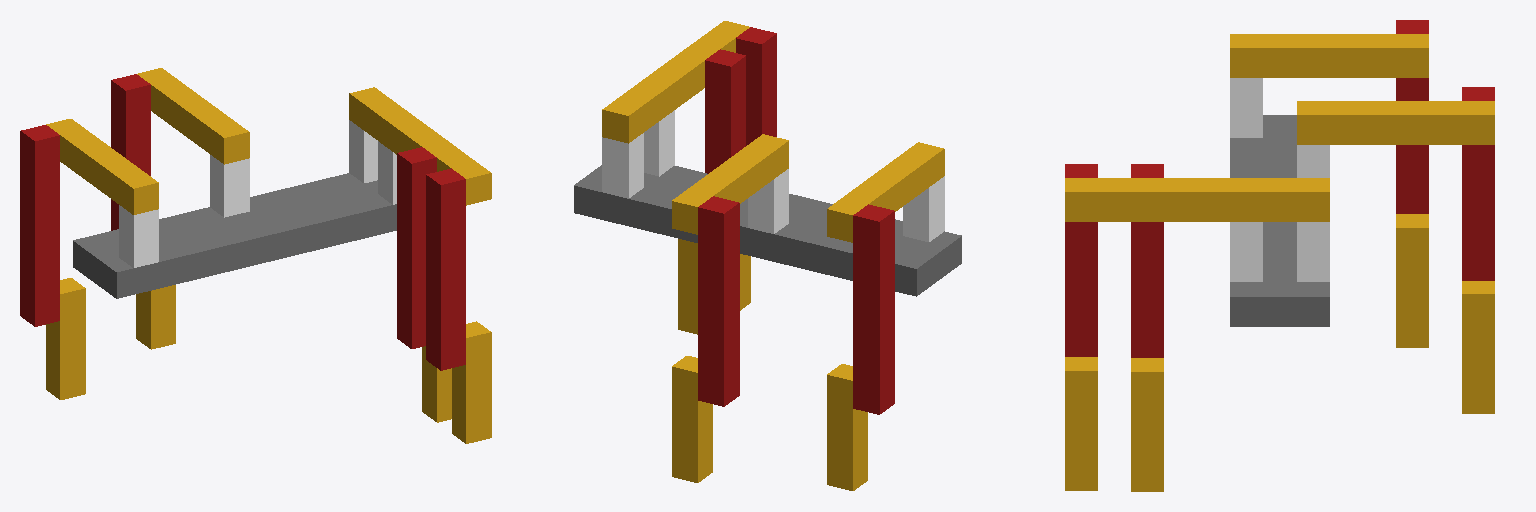
The robot description file, URDF, robot "v0":
<?xml version="1.0" encoding="utf-8"?>
<!-- =================================================================================== -->
<!-- |    This document was autogenerated by xacro from ../robots/v0variants/xacros/v0_4l_19.xacro | -->
<!-- |    EDITING THIS FILE BY HAND IS NOT RECOMMENDED                                 | -->
<!-- =================================================================================== -->
<robot name="v0">
  <material name="grey">
    <color rgba="0.5 0.5 0.5 1"/>
  </material>
  <material name="white">
    <color rgba="1 1 1 1"/>
  </material>
  <material name="yellow">
    <color rgba="0.91 0.7 0.14 1"/>
  </material>
  <material name="red">
    <color rgba="0.71 0.14 0.14 1"/>
  </material>
  <link name="body">
    <visual>
      <geometry>
        <box size="1.3 0.3 0.1"/>
      </geometry>
      <material name="grey"/>
      <origin rpy="0 0 0" xyz="0 0 0.7"/>
    </visual>
    <collision>
      <geometry>
        <box size="1.3 0.3 0.1"/>
      </geometry>
      <origin rpy="0 0 0" xyz="0 0 0.7"/>
    </collision>
    <inertial>
      <mass value="99.84"/>
      <inertia ixx="0.832" ixy="0.0" ixz="0.0" iyy="14.144" iyz="0.0" izz="14.8096"/>
    </inertial>
  </link>
  <link name="l1_segment_1">
    <visual>
      <geometry>
        <box size="0.1 0.1 0.2"/>
      </geometry>
      <material name="white"/>
      <origin rpy="0 0 0" xyz="0 0 0.1"/>
    </visual>
    <collision>
      <geometry>
        <box size="0.1 0.1 0.2"/>
      </geometry>
      <origin rpy="0 0 0" xyz="0 0 0.1"/>
    </collision>
    <inertial>
      <mass value="5.12"/>
      <inertia ixx="0.0213333333333" ixy="0.0" ixz="0.0" iyy="0.0213333333333" iyz="0.0" izz="0.00853333333333"/>
    </inertial>
  </link>
  <joint name="l1_base_to_joint_1" type="fixed">
    <parent link="body"/>
    <child link="l1_segment_1"/>
    <origin rpy="0 0 0" xyz="-0.059846636001901654 0.1 0.75"/>
  </joint>
  <link name="l1_segment_2_HIP">
    <visual>
      <geometry>
        <box size="0.1 0.6 0.1"/>
      </geometry>
      <material name="yellow"/>
      <origin rpy="0 0 0" xyz="0 0.25 0"/>
    </visual>
    <collision>
      <geometry>
        <box size="0.1 0.6 0.1"/>
      </geometry>
      <origin rpy="0 0 0" xyz="0 0.25 0"/>
    </collision>
    <inertial>
      <mass value="15.36"/>
      <inertia ixx="0.4736" ixy="0.0" ixz="0.0" iyy="0.0256" iyz="0.0" izz="0.4736"/>
    </inertial>
  </link>
  <joint name="l1_joint_1_to_2" type="revolute">
    <parent link="l1_segment_1"/>
    <child link="l1_segment_2_HIP"/>
    <origin rpy="0 0 0" xyz="0 0 0.25"/>
    <axis xyz="0.0 0.0 1.0"/>
    <limit effort="2048" lower="-1.2" upper="1.2" velocity="20"/>
  </joint>
  <link name="l1_segment_3_THIGH">
    <visual>
      <geometry>
        <box size="0.1 0.1 0.7"/>
      </geometry>
      <material name="red"/>
      <origin rpy="0 0 0" xyz="0 0 -0.3"/>
    </visual>
    <collision>
      <geometry>
        <box size="0.1 0.1 0.7"/>
      </geometry>
      <origin rpy="0 0 0" xyz="0 0 -0.3"/>
    </collision>
    <inertial>
      <mass value="17.92"/>
      <inertia ixx="0.746666666667" ixy="0.0" ixz="0.0" iyy="0.746666666667" iyz="0.0" izz="0.0298666666667"/>
    </inertial>
  </link>
  <joint name="l1_joint_2_to_3" type="revolute">
    <parent link="l1_segment_2_HIP"/>
    <child link="l1_segment_3_THIGH"/>
    <origin rpy="0 0 0" xyz="-0.1 0.5 0"/>
    <axis xyz="1.0 0.0 0.0"/>
    <limit effort="2048" lower="-0.2" upper="0.75" velocity="20"/>
  </joint>
  <link name="l1_segment_4_FOOT">
    <visual>
      <geometry>
        <box size="0.1 0.1 0.4"/>
      </geometry>
      <material name="yellow"/>
      <origin rpy="0 0 0" xyz="0 0 -0.2"/>
    </visual>
    <collision>
      <geometry>
        <box size="0.1 0.1 0.4"/>
      </geometry>
      <origin rpy="0 0 0" xyz="0 0 -0.2"/>
    </collision>
    <inertial>
      <mass value="10.24"/>
      <inertia ixx="0.145066666667" ixy="0.0" ixz="0.0" iyy="0.145066666667" iyz="0.0" izz="0.0170666666667"/>
    </inertial>
  </link>
  <joint name="l1_joint_3_to_4_FOOT" type="revolute">
    <parent link="l1_segment_3_THIGH"/>
    <child link="l1_segment_4_FOOT"/>
    <origin rpy="0 0 0" xyz="0.1 0 -0.55"/>
    <axis xyz="1.0 0.0 0.0"/>
    <limit effort="2048" lower="-0.2" upper="0.5" velocity="20"/>
  </joint>
  <link name="r2_segment_1">
    <visual>
      <geometry>
        <box size="0.1 0.1 0.2"/>
      </geometry>
      <material name="white"/>
      <origin rpy="0 0 0" xyz="0 0 0.1"/>
    </visual>
    <collision>
      <geometry>
        <box size="0.1 0.1 0.2"/>
      </geometry>
      <origin rpy="0 0 0" xyz="0 0 0.1"/>
    </collision>
    <inertial>
      <mass value="5.12"/>
      <inertia ixx="0.0213333333333" ixy="0.0" ixz="0.0" iyy="0.0213333333333" iyz="0.0" izz="0.00853333333333"/>
    </inertial>
  </link>
  <joint name="r2_base_to_joint_1" type="fixed">
    <parent link="body"/>
    <child link="r2_segment_1"/>
    <origin rpy="0 0 0" xyz="0.49067472200710915 -0.1 0.75"/>
  </joint>
  <link name="r2_segment_2_HIP">
    <visual>
      <geometry>
        <box size="0.1 0.6 0.1"/>
      </geometry>
      <material name="yellow"/>
      <origin rpy="0 0 0" xyz="0 -0.25 0"/>
    </visual>
    <collision>
      <geometry>
        <box size="0.1 0.6 0.1"/>
      </geometry>
      <origin rpy="0 0 0" xyz="0 -0.25 0"/>
    </collision>
    <inertial>
      <mass value="15.36"/>
      <inertia ixx="0.4736" ixy="0.0" ixz="0.0" iyy="0.0256" iyz="0.0" izz="0.4736"/>
    </inertial>
  </link>
  <joint name="r2_joint_1_to_2" type="revolute">
    <parent link="r2_segment_1"/>
    <child link="r2_segment_2_HIP"/>
    <origin rpy="0 0 0" xyz="0 0 0.25"/>
    <axis xyz="0.0 0.0 1.0"/>
    <limit effort="2048" lower="-1.2" upper="1.2" velocity="20"/>
  </joint>
  <link name="r2_segment_3_THIGH">
    <visual>
      <geometry>
        <box size="0.1 0.1 0.7"/>
      </geometry>
      <material name="red"/>
      <origin rpy="0 0 0" xyz="0 0 -0.3"/>
    </visual>
    <collision>
      <geometry>
        <box size="0.1 0.1 0.7"/>
      </geometry>
      <origin rpy="0 0 0" xyz="0 0 -0.3"/>
    </collision>
    <inertial>
      <mass value="17.92"/>
      <inertia ixx="0.746666666667" ixy="0.0" ixz="0.0" iyy="0.746666666667" iyz="0.0" izz="0.0298666666667"/>
    </inertial>
  </link>
  <joint name="r2_joint_2_to_3" type="revolute">
    <parent link="r2_segment_2_HIP"/>
    <child link="r2_segment_3_THIGH"/>
    <origin rpy="0 0 0" xyz="-0.1 -0.5 0"/>
    <axis xyz="1.0 0.0 0.0"/>
    <limit effort="2048" lower="-0.75" upper="0.2" velocity="20"/>
  </joint>
  <link name="r2_segment_4_FOOT">
    <visual>
      <geometry>
        <box size="0.1 0.1 0.4"/>
      </geometry>
      <material name="yellow"/>
      <origin rpy="0 0 0" xyz="0 0 -0.2"/>
    </visual>
    <collision>
      <geometry>
        <box size="0.1 0.1 0.4"/>
      </geometry>
      <origin rpy="0 0 0" xyz="0 0 -0.2"/>
    </collision>
    <inertial>
      <mass value="10.24"/>
      <inertia ixx="0.145066666667" ixy="0.0" ixz="0.0" iyy="0.145066666667" iyz="0.0" izz="0.0170666666667"/>
    </inertial>
  </link>
  <joint name="r2_joint_3_to_4_FOOT" type="revolute">
    <parent link="r2_segment_3_THIGH"/>
    <child link="r2_segment_4_FOOT"/>
    <origin rpy="0 0 0" xyz="0.1 0 -0.55"/>
    <axis xyz="1.0 0.0 0.0"/>
    <limit effort="2048" lower="-0.5" upper="0.2" velocity="20"/>
  </joint>
  <link name="l3_segment_1">
    <visual>
      <geometry>
        <box size="0.1 0.1 0.2"/>
      </geometry>
      <material name="white"/>
      <origin rpy="0 0 0" xyz="0 0 0.1"/>
    </visual>
    <collision>
      <geometry>
        <box size="0.1 0.1 0.2"/>
      </geometry>
      <origin rpy="0 0 0" xyz="0 0 0.1"/>
    </collision>
    <inertial>
      <mass value="5.12"/>
      <inertia ixx="0.0213333333333" ixy="0.0" ixz="0.0" iyy="0.0213333333333" iyz="0.0" izz="0.00853333333333"/>
    </inertial>
  </link>
  <joint name="l3_base_to_joint_1" type="fixed">
    <parent link="body"/>
    <child link="l3_segment_1"/>
    <origin rpy="0 0 0" xyz="-0.5327659968961452 -0.1 0.75"/>
  </joint>
  <link name="l3_segment_2_HIP">
    <visual>
      <geometry>
        <box size="0.1 0.6 0.1"/>
      </geometry>
      <material name="yellow"/>
      <origin rpy="0 0 0" xyz="0 0.25 0"/>
    </visual>
    <collision>
      <geometry>
        <box size="0.1 0.6 0.1"/>
      </geometry>
      <origin rpy="0 0 0" xyz="0 0.25 0"/>
    </collision>
    <inertial>
      <mass value="15.36"/>
      <inertia ixx="0.4736" ixy="0.0" ixz="0.0" iyy="0.0256" iyz="0.0" izz="0.4736"/>
    </inertial>
  </link>
  <joint name="l3_joint_1_to_2" type="revolute">
    <parent link="l3_segment_1"/>
    <child link="l3_segment_2_HIP"/>
    <origin rpy="0 0 0" xyz="0 0 0.25"/>
    <axis xyz="0.0 0.0 1.0"/>
    <limit effort="2048" lower="-1.2" upper="1.2" velocity="20"/>
  </joint>
  <link name="l3_segment_3_THIGH">
    <visual>
      <geometry>
        <box size="0.1 0.1 0.7"/>
      </geometry>
      <material name="red"/>
      <origin rpy="0 0 0" xyz="0 0 -0.3"/>
    </visual>
    <collision>
      <geometry>
        <box size="0.1 0.1 0.7"/>
      </geometry>
      <origin rpy="0 0 0" xyz="0 0 -0.3"/>
    </collision>
    <inertial>
      <mass value="17.92"/>
      <inertia ixx="0.746666666667" ixy="0.0" ixz="0.0" iyy="0.746666666667" iyz="0.0" izz="0.0298666666667"/>
    </inertial>
  </link>
  <joint name="l3_joint_2_to_3" type="revolute">
    <parent link="l3_segment_2_HIP"/>
    <child link="l3_segment_3_THIGH"/>
    <origin rpy="0 0 0" xyz="-0.1 0.5 0"/>
    <axis xyz="1.0 0.0 0.0"/>
    <limit effort="2048" lower="-0.2" upper="0.75" velocity="20"/>
  </joint>
  <link name="l3_segment_4_FOOT">
    <visual>
      <geometry>
        <box size="0.1 0.1 0.4"/>
      </geometry>
      <material name="yellow"/>
      <origin rpy="0 0 0" xyz="0 0 -0.2"/>
    </visual>
    <collision>
      <geometry>
        <box size="0.1 0.1 0.4"/>
      </geometry>
      <origin rpy="0 0 0" xyz="0 0 -0.2"/>
    </collision>
    <inertial>
      <mass value="10.24"/>
      <inertia ixx="0.145066666667" ixy="0.0" ixz="0.0" iyy="0.145066666667" iyz="0.0" izz="0.0170666666667"/>
    </inertial>
  </link>
  <joint name="l3_joint_3_to_4_FOOT" type="revolute">
    <parent link="l3_segment_3_THIGH"/>
    <child link="l3_segment_4_FOOT"/>
    <origin rpy="0 0 0" xyz="0.1 0 -0.55"/>
    <axis xyz="1.0 0.0 0.0"/>
    <limit effort="2048" lower="-0.2" upper="0.5" velocity="20"/>
  </joint>
  <link name="r4_segment_1">
    <visual>
      <geometry>
        <box size="0.1 0.1 0.2"/>
      </geometry>
      <material name="white"/>
      <origin rpy="0 0 0" xyz="0 0 0.1"/>
    </visual>
    <collision>
      <geometry>
        <box size="0.1 0.1 0.2"/>
      </geometry>
      <origin rpy="0 0 0" xyz="0 0 0.1"/>
    </collision>
    <inertial>
      <mass value="5.12"/>
      <inertia ixx="0.0213333333333" ixy="0.0" ixz="0.0" iyy="0.0213333333333" iyz="0.0" izz="0.00853333333333"/>
    </inertial>
  </link>
  <joint name="r4_base_to_joint_1" type="fixed">
    <parent link="body"/>
    <child link="r4_segment_1"/>
    <origin rpy="0 0 0" xyz="0.4914815131346647 0.1 0.75"/>
  </joint>
  <link name="r4_segment_2_HIP">
    <visual>
      <geometry>
        <box size="0.1 0.6 0.1"/>
      </geometry>
      <material name="yellow"/>
      <origin rpy="0 0 0" xyz="0 -0.25 0"/>
    </visual>
    <collision>
      <geometry>
        <box size="0.1 0.6 0.1"/>
      </geometry>
      <origin rpy="0 0 0" xyz="0 -0.25 0"/>
    </collision>
    <inertial>
      <mass value="15.36"/>
      <inertia ixx="0.4736" ixy="0.0" ixz="0.0" iyy="0.0256" iyz="0.0" izz="0.4736"/>
    </inertial>
  </link>
  <joint name="r4_joint_1_to_2" type="revolute">
    <parent link="r4_segment_1"/>
    <child link="r4_segment_2_HIP"/>
    <origin rpy="0 0 0" xyz="0 0 0.25"/>
    <axis xyz="0.0 0.0 1.0"/>
    <limit effort="2048" lower="-1.2" upper="1.2" velocity="20"/>
  </joint>
  <link name="r4_segment_3_THIGH">
    <visual>
      <geometry>
        <box size="0.1 0.1 0.7"/>
      </geometry>
      <material name="red"/>
      <origin rpy="0 0 0" xyz="0 0 -0.3"/>
    </visual>
    <collision>
      <geometry>
        <box size="0.1 0.1 0.7"/>
      </geometry>
      <origin rpy="0 0 0" xyz="0 0 -0.3"/>
    </collision>
    <inertial>
      <mass value="17.92"/>
      <inertia ixx="0.746666666667" ixy="0.0" ixz="0.0" iyy="0.746666666667" iyz="0.0" izz="0.0298666666667"/>
    </inertial>
  </link>
  <joint name="r4_joint_2_to_3" type="revolute">
    <parent link="r4_segment_2_HIP"/>
    <child link="r4_segment_3_THIGH"/>
    <origin rpy="0 0 0" xyz="-0.1 -0.5 0"/>
    <axis xyz="1.0 0.0 0.0"/>
    <limit effort="2048" lower="-0.75" upper="0.2" velocity="20"/>
  </joint>
  <link name="r4_segment_4_FOOT">
    <visual>
      <geometry>
        <box size="0.1 0.1 0.4"/>
      </geometry>
      <material name="yellow"/>
      <origin rpy="0 0 0" xyz="0 0 -0.2"/>
    </visual>
    <collision>
      <geometry>
        <box size="0.1 0.1 0.4"/>
      </geometry>
      <origin rpy="0 0 0" xyz="0 0 -0.2"/>
    </collision>
    <inertial>
      <mass value="10.24"/>
      <inertia ixx="0.145066666667" ixy="0.0" ixz="0.0" iyy="0.145066666667" iyz="0.0" izz="0.0170666666667"/>
    </inertial>
  </link>
  <joint name="r4_joint_3_to_4_FOOT" type="revolute">
    <parent link="r4_segment_3_THIGH"/>
    <child link="r4_segment_4_FOOT"/>
    <origin rpy="0 0 0" xyz="0.1 0 -0.55"/>
    <axis xyz="1.0 0.0 0.0"/>
    <limit effort="2048" lower="-0.5" upper="0.2" velocity="20"/>
  </joint>
</robot>

--- What the picture shows (computed from the rendered views, not written in the file) ---
3 views of the same robot in one strip: view 1: azimuth 30°, elevation 25°; view 2: azimuth 150°, elevation 25°; view 3: azimuth 270°, elevation 25° (orthographic).
Model v0 with 17 links and 16 joints (12 revolute, 4 fixed), rooted at body, posed every joint at zero.
Links seen in each view (by area): view 1: body, r2_segment_3_THIGH, l3_segment_3_THIGH, r4_segment_3_THIGH, l3_segment_2_HIP, l1_segment_2_HIP, l3_segment_4_FOOT, r2_segment_4_FOOT, l1_segment_3_THIGH, r4_segment_2_HIP, r2_segment_2_HIP, l1_segment_4_FOOT (+5 smaller); view 2: body, l1_segment_3_THIGH, l3_segment_3_THIGH, l3_segment_2_HIP, l1_segment_2_HIP, r4_segment_3_THIGH, l1_segment_4_FOOT, l3_segment_4_FOOT, r4_segment_2_HIP, r2_segment_3_THIGH, r4_segment_1, r2_segment_2_HIP (+5 smaller); view 3: body, l3_segment_2_HIP, l1_segment_2_HIP, r4_segment_2_HIP, l1_segment_3_THIGH, r4_segment_3_THIGH, r2_segment_3_THIGH, r2_segment_2_HIP, r2_segment_4_FOOT, l3_segment_4_FOOT, r4_segment_4_FOOT, l1_segment_4_FOOT (+5 smaller).
Boxes of the visible links, left/top/right/bottom form: body: left=73, top=173, right=396, bottom=298; r2_segment_3_THIGH: left=426, top=168, right=465, bottom=370; l3_segment_3_THIGH: left=20, top=125, right=59, bottom=326; r4_segment_3_THIGH: left=397, top=147, right=436, bottom=348; l3_segment_2_HIP: left=46, top=119, right=158, bottom=214; l1_segment_2_HIP: left=137, top=68, right=249, bottom=164; l3_segment_4_FOOT: left=46, top=278, right=85, bottom=399; r2_segment_4_FOOT: left=452, top=321, right=491, bottom=443; l1_segment_3_THIGH: left=111, top=74, right=150, bottom=230; r4_segment_2_HIP: left=349, top=87, right=461, bottom=157; r2_segment_2_HIP: left=378, top=115, right=491, bottom=205; l1_segment_4_FOOT: left=136, top=285, right=175, bottom=349; body: left=574, top=165, right=961, bottom=296; l1_segment_3_THIGH: left=698, top=196, right=739, bottom=406; l3_segment_3_THIGH: left=853, top=204, right=894, bottom=414; l3_segment_2_HIP: left=827, top=142, right=944, bottom=242; l1_segment_2_HIP: left=672, top=134, right=788, bottom=234; r4_segment_3_THIGH: left=705, top=49, right=745, bottom=173; l1_segment_4_FOOT: left=672, top=356, right=712, bottom=482; l3_segment_4_FOOT: left=827, top=364, right=867, bottom=490; r4_segment_2_HIP: left=602, top=43, right=719, bottom=143; r2_segment_3_THIGH: left=736, top=27, right=776, bottom=145; r4_segment_1: left=602, top=133, right=643, bottom=198; r2_segment_2_HIP: left=659, top=21, right=749, bottom=120; body: left=1230, top=115, right=1329, bottom=326; l3_segment_2_HIP: left=1230, top=34, right=1428, bottom=77; l1_segment_2_HIP: left=1297, top=101, right=1494, bottom=144; r4_segment_2_HIP: left=1131, top=178, right=1329, bottom=221; l1_segment_3_THIGH: left=1462, top=87, right=1494, bottom=280; r4_segment_3_THIGH: left=1131, top=164, right=1163, bottom=357; r2_segment_3_THIGH: left=1065, top=164, right=1097, bottom=356; r2_segment_2_HIP: left=1065, top=178, right=1262, bottom=221; r2_segment_4_FOOT: left=1065, top=357, right=1097, bottom=490; l3_segment_4_FOOT: left=1396, top=214, right=1428, bottom=347; r4_segment_4_FOOT: left=1131, top=358, right=1163, bottom=491; l1_segment_4_FOOT: left=1462, top=281, right=1494, bottom=413.
Size in the robot's own frame: 1.33 by 1.3 by 1 metres.
Geometry: primitives only (box / cylinder / sphere), no mesh files.